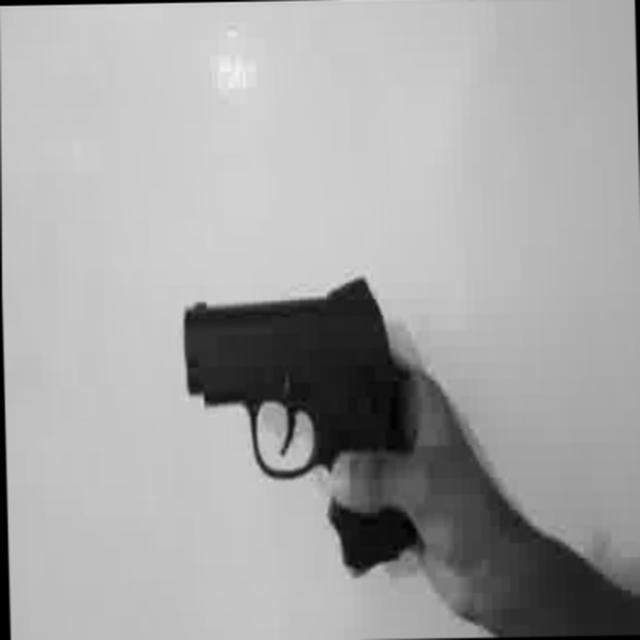weapon: (180, 269, 640, 640)
